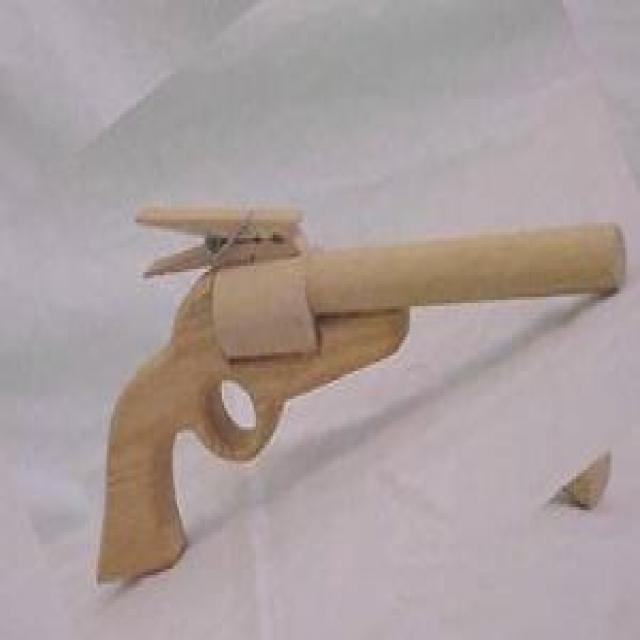gun: (87, 125, 620, 622)
